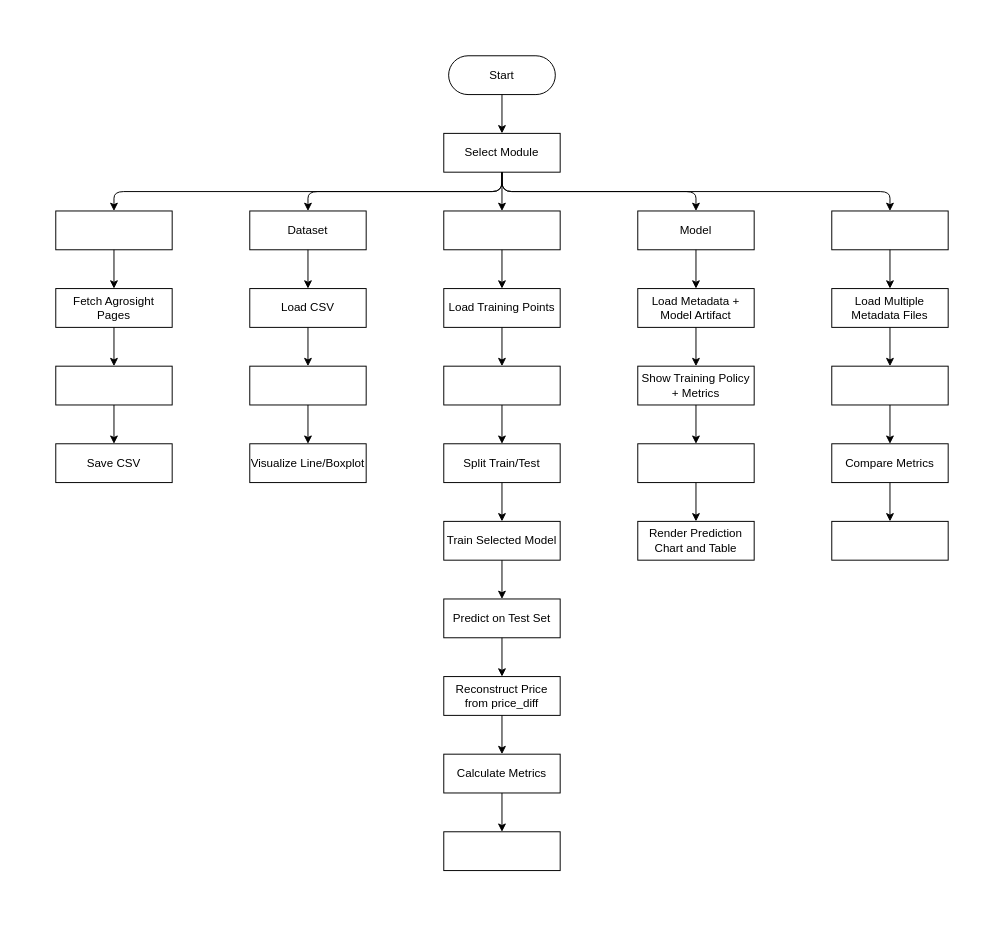
Image size: 1003x925. Some labels were removed from this diagram. The shapes that lost their labels are listed below. From the top down, each one's centre as x and y in pixels, then its label:
the point at 113,230: Scrap Dataset
the point at 501,230: Training Model
the point at 889,230: Compare Model
the point at 113,385: Parse Table Rows
the point at 307,385: Data Preprocessing
the point at 501,385: Build Features
the point at 889,385: Validate Policy Consistency
the point at 695,463: Generate Next 30-Day Forecast
the point at 889,540: Overlay 30-Day Forecast Curves
the point at 501,851: Save Artifact (meta.json)
